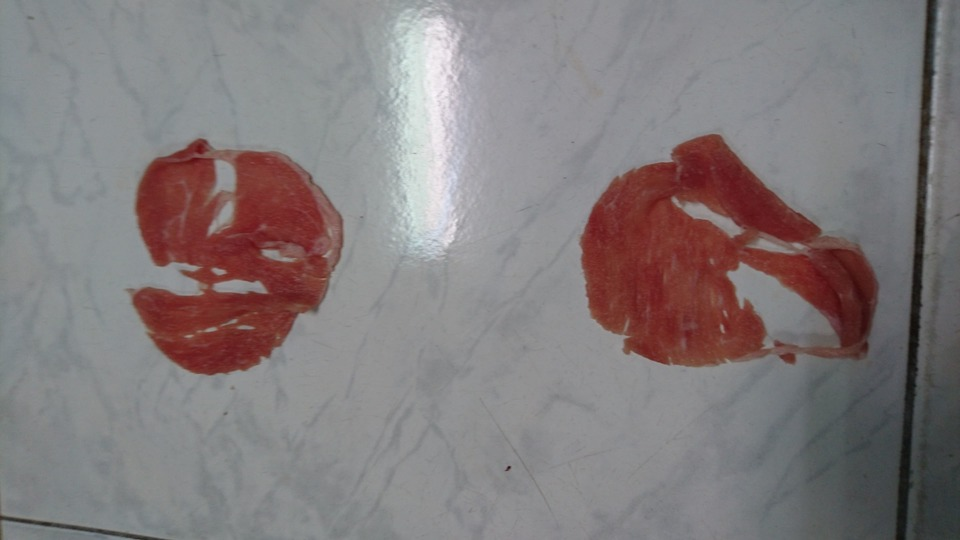restructured meat: (566, 139, 888, 382), (111, 142, 353, 387)
